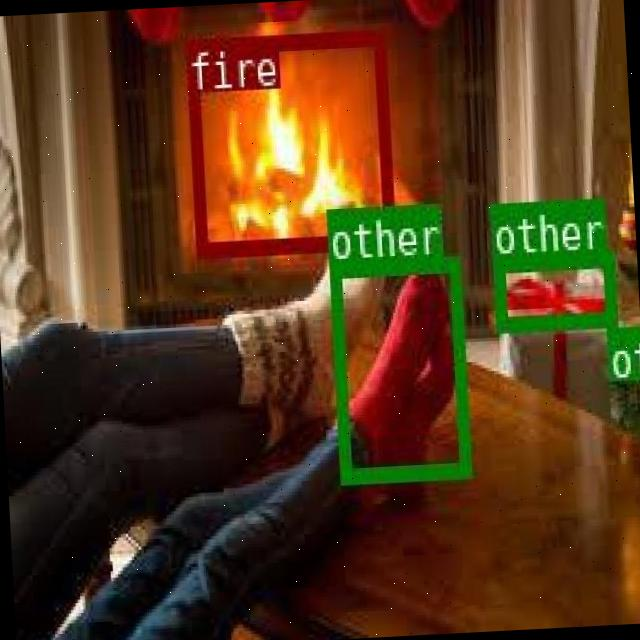fire: (183, 28, 393, 255)
